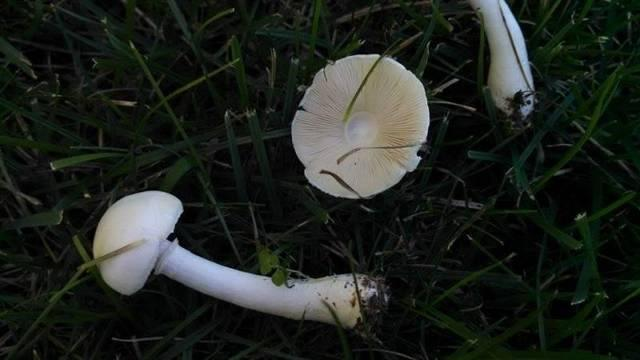Non-edible Mushroom: (91, 189, 391, 331), (289, 52, 430, 200), (467, 0, 537, 128)
